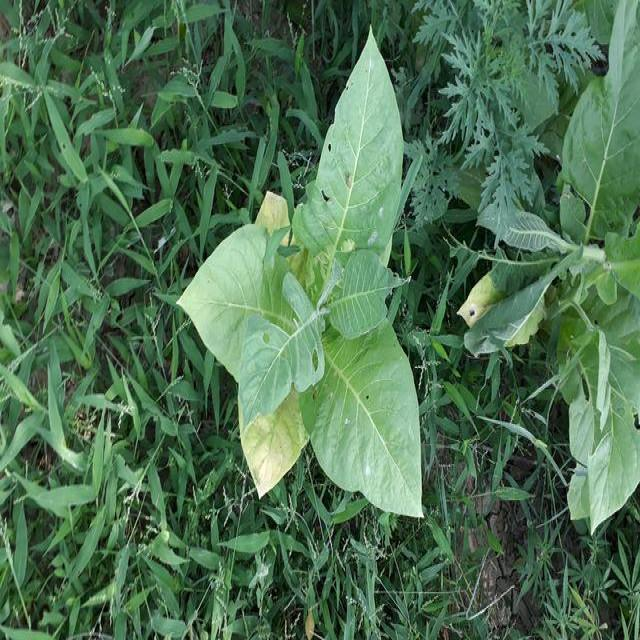crop: (168, 22, 426, 518)
